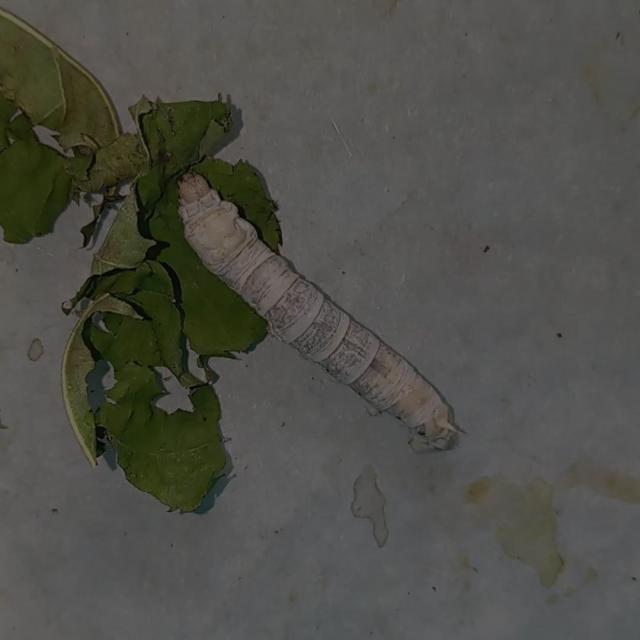Grasserie: (172, 164, 467, 468)
